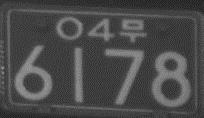0: (55, 14, 83, 41)
1: (63, 46, 96, 103)
4: (87, 17, 115, 42)
6: (13, 43, 53, 101)
7: (102, 47, 145, 105)
8: (150, 49, 192, 108)
무: (118, 17, 146, 43)
